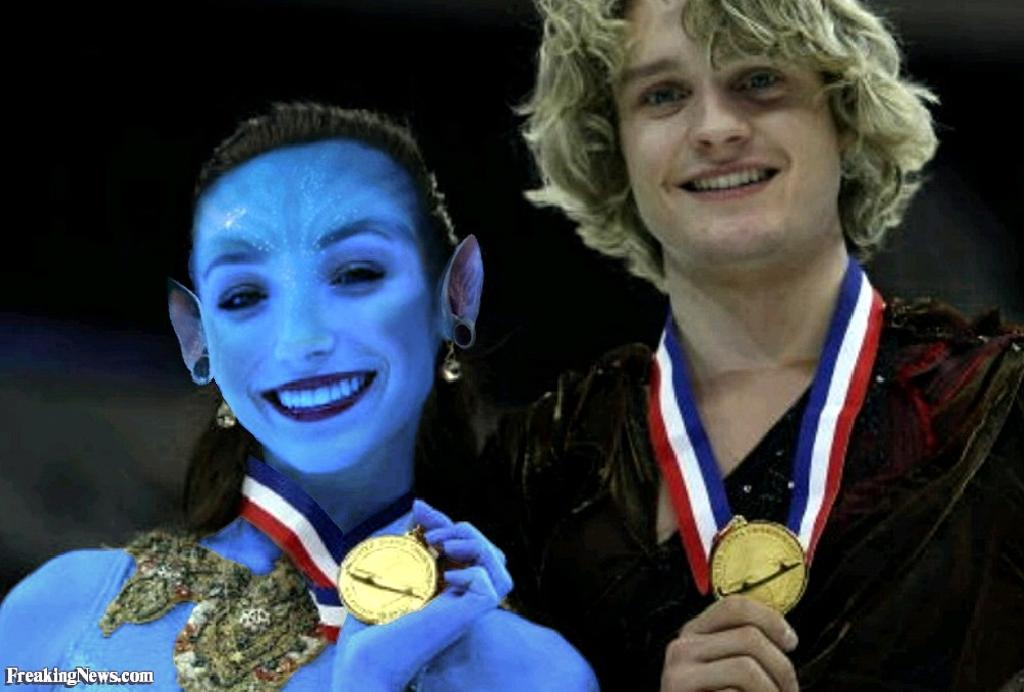face: (188, 142, 432, 466), (608, 2, 838, 258)
